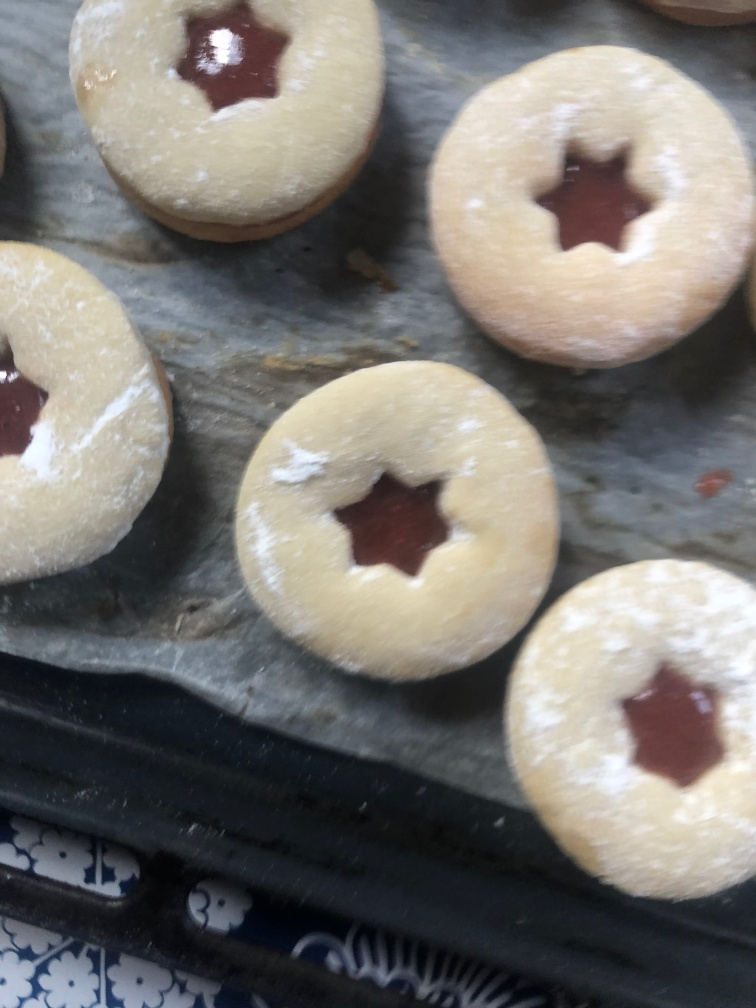christmas shortbread with jam: (428, 39, 756, 373), (238, 357, 557, 693), (516, 556, 756, 906), (62, 1, 395, 241), (1, 240, 168, 613)
